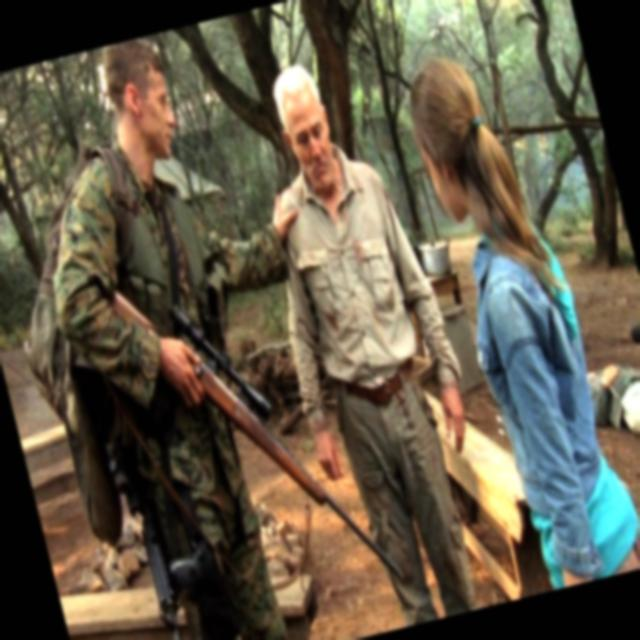rifle: (100, 242, 412, 640)
